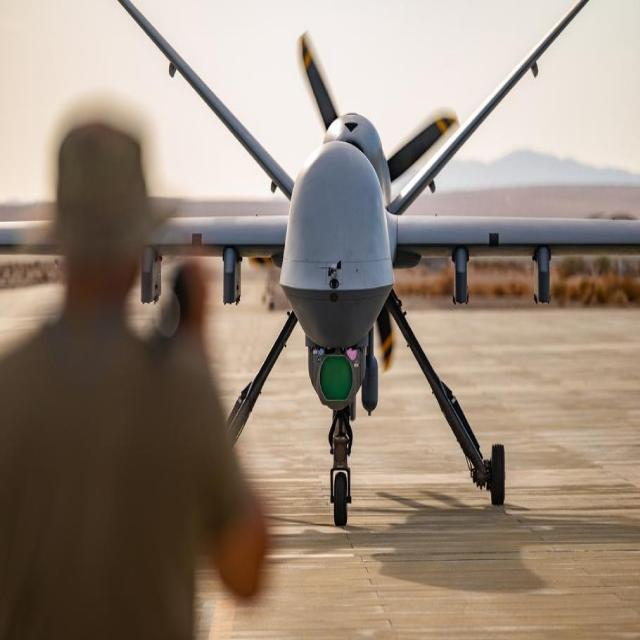MQ9: (22, 2, 640, 614)
